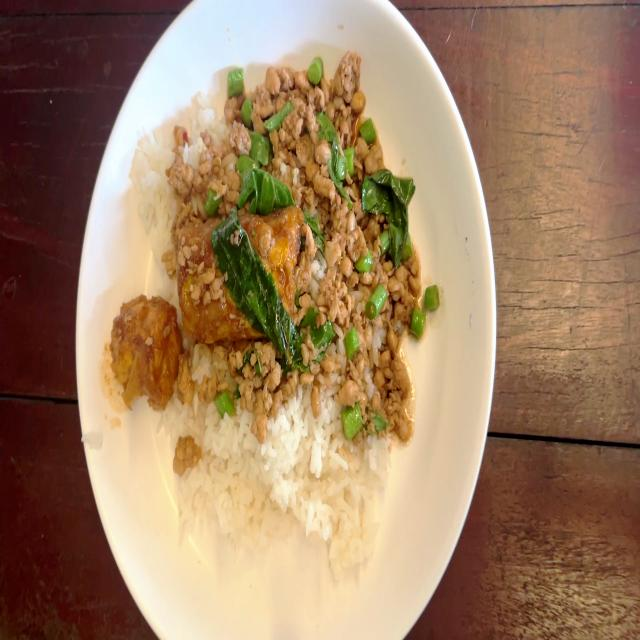fried_tofo: (178, 218, 298, 330), (113, 299, 174, 397)
minced_pork: (300, 160, 419, 411), (225, 70, 369, 237), (169, 127, 235, 213), (255, 65, 308, 117), (178, 230, 218, 287), (276, 95, 314, 147), (233, 132, 268, 184), (332, 50, 362, 103), (166, 150, 194, 199), (172, 434, 202, 477), (330, 102, 356, 145), (236, 371, 262, 409), (173, 199, 194, 240), (196, 366, 218, 404), (229, 120, 252, 156), (224, 90, 245, 128), (316, 110, 337, 146), (254, 83, 276, 116), (251, 410, 268, 444), (250, 102, 268, 134), (161, 247, 177, 280), (266, 65, 281, 95), (173, 124, 188, 150), (258, 229, 272, 256), (212, 344, 228, 367), (294, 70, 309, 93), (281, 67, 295, 90), (269, 128, 280, 154), (334, 76, 344, 97), (178, 245, 186, 266), (278, 126, 287, 144)
rice: (274, 413, 374, 558), (170, 390, 264, 539), (184, 121, 220, 171), (190, 88, 223, 130), (131, 148, 156, 194), (210, 420, 238, 458), (233, 407, 254, 450)
stir_fried_basil: (100, 33, 431, 568)
